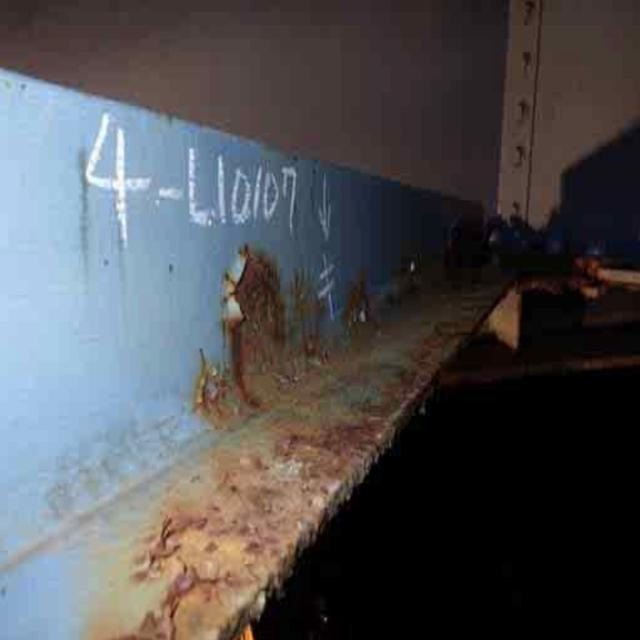corrosion: (100, 192, 554, 637)
